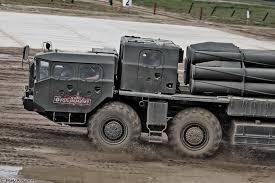MIL_SAM_TEL: (22, 36, 275, 159)
